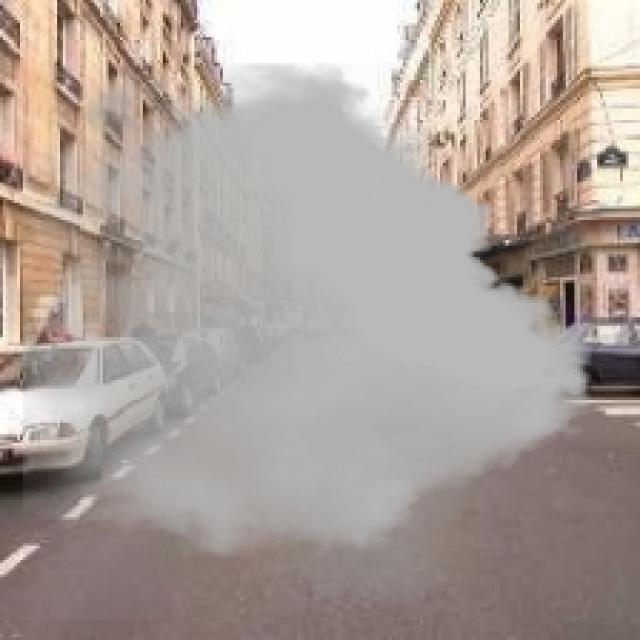smoke: (23, 54, 591, 620)
